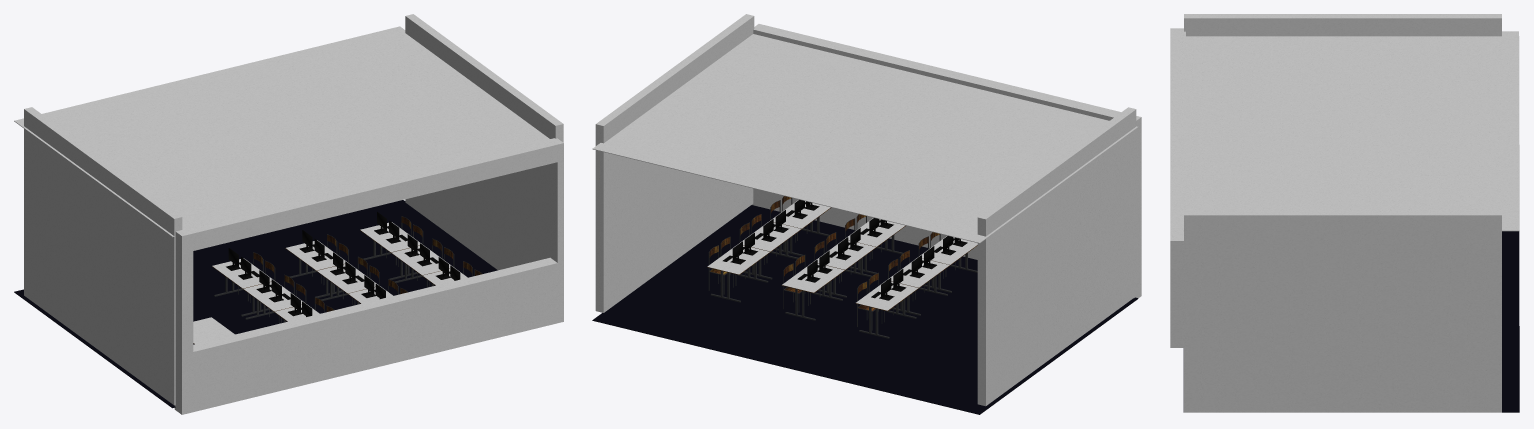
File: salle_classe_haut01.obj
3 renders of one model, left to right at view 1: azimuth 30°, elevation 25°; view 2: azimuth 150°, elevation 25°; view 3: azimuth 270°, elevation 25°, orthographic. The views are drawn at different scales.
Parts seen in each view (by area): view 1: sol_classe.001; view 2: sol_classe.001; view 3: sol_classe.001.
Part boxes in pixels (x1,y1,x2,y2): sol_classe.001: (14, 14, 563, 414); sol_classe.001: (592, 14, 1141, 414); sol_classe.001: (1170, 14, 1519, 412).
Size of the model in its own units: 24.46 by 11.44 by 17.86.
Materials: 5 (3 with a texture image).
